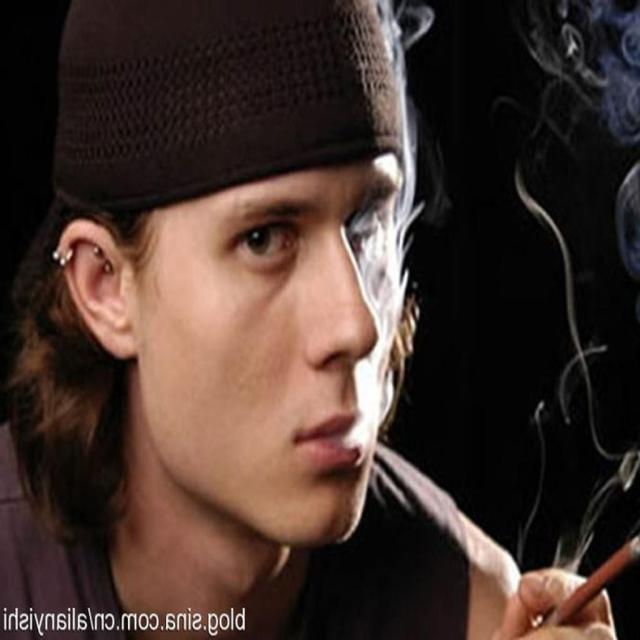smoking: (55, 2, 639, 640)
